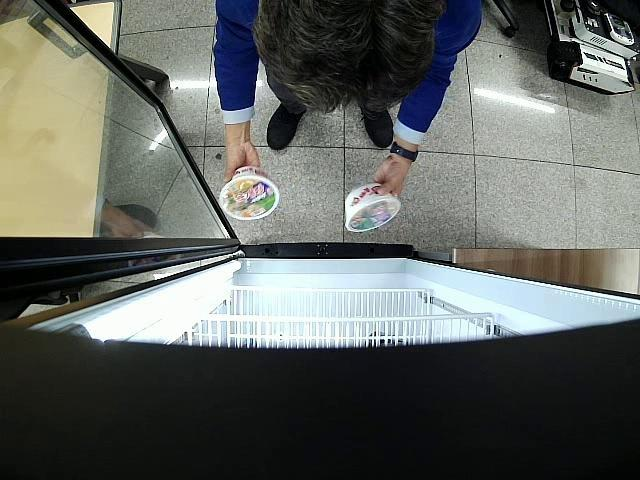09_yukGaeJang: (218, 166, 280, 221), (344, 183, 400, 231)
